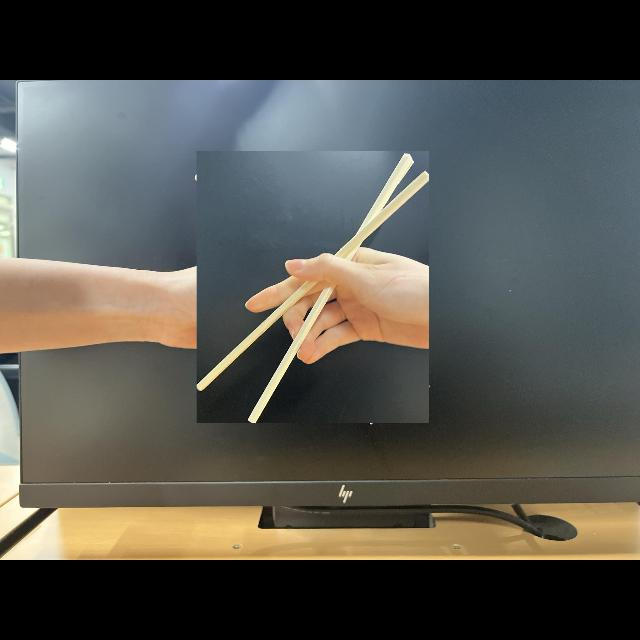stick: (197, 152, 429, 422)
